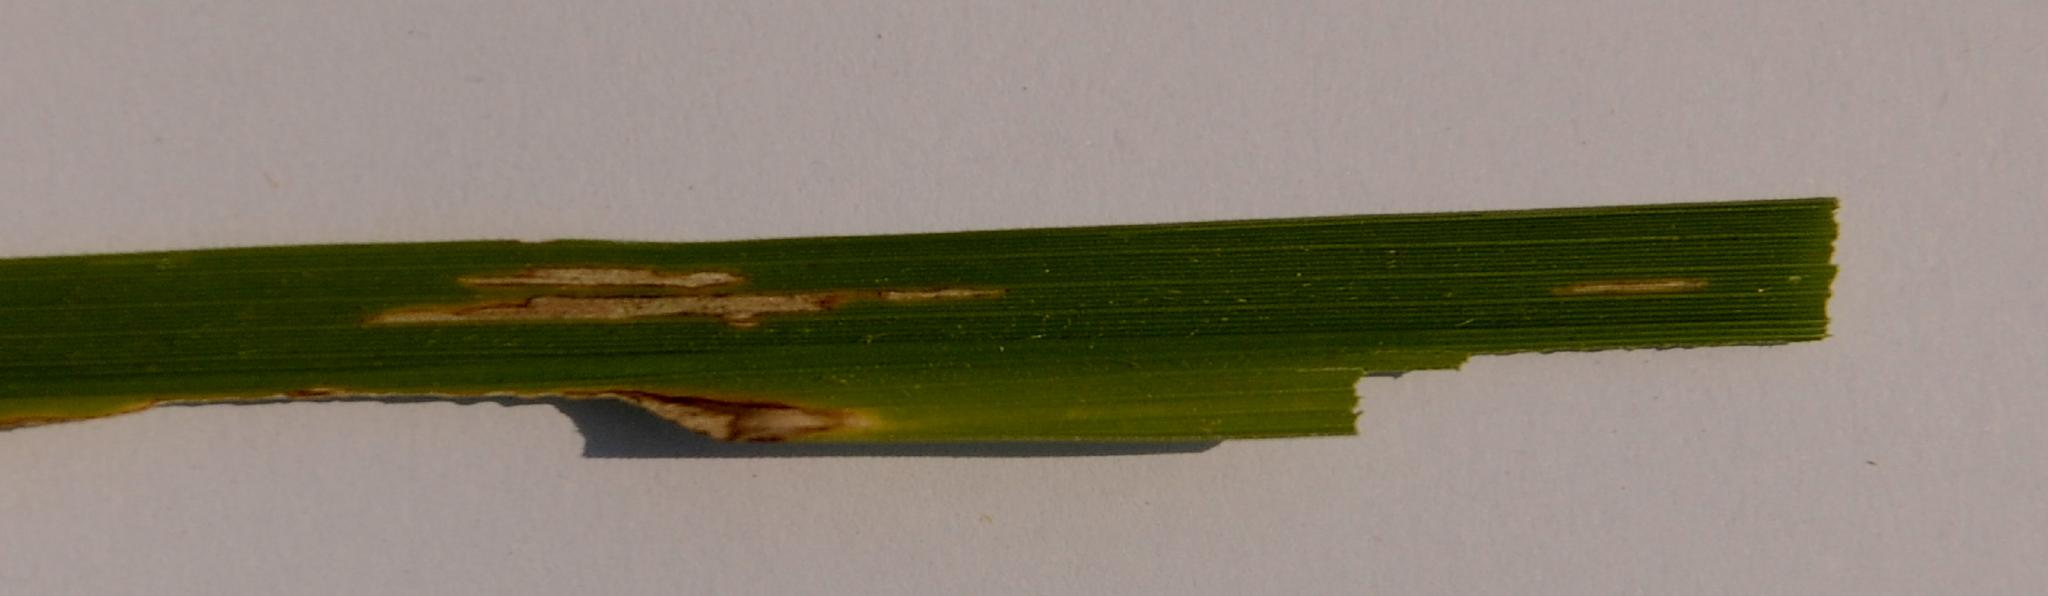2 BacterialBlight: (327, 244, 1095, 344), (1502, 237, 1782, 329)
